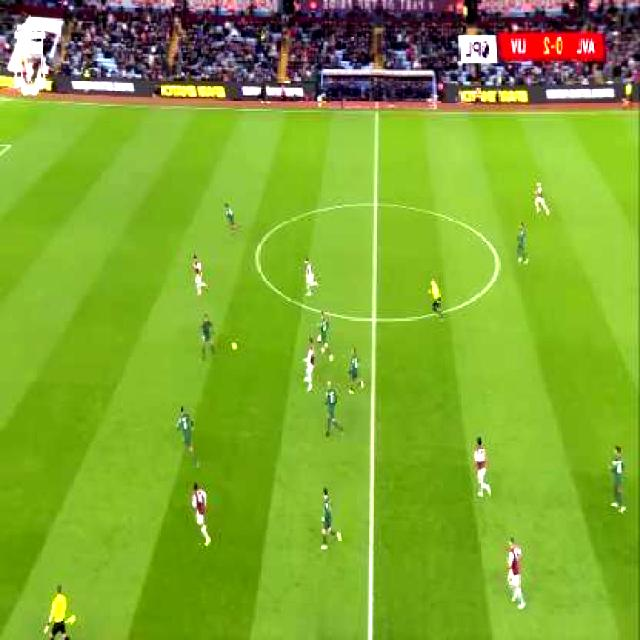bigarea_top_inner: (0, 128, 17, 162)
halfcircle_bottom: (363, 300, 386, 337)
halfcircle_top: (363, 186, 388, 219)
midline_top_intersection: (364, 95, 384, 131)
